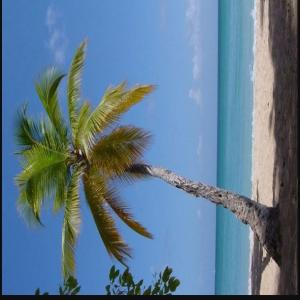palm tree: (10, 36, 157, 289)
